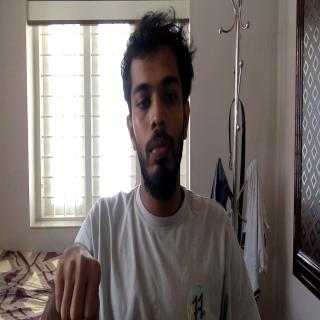Yes: (36, 222, 114, 318)
